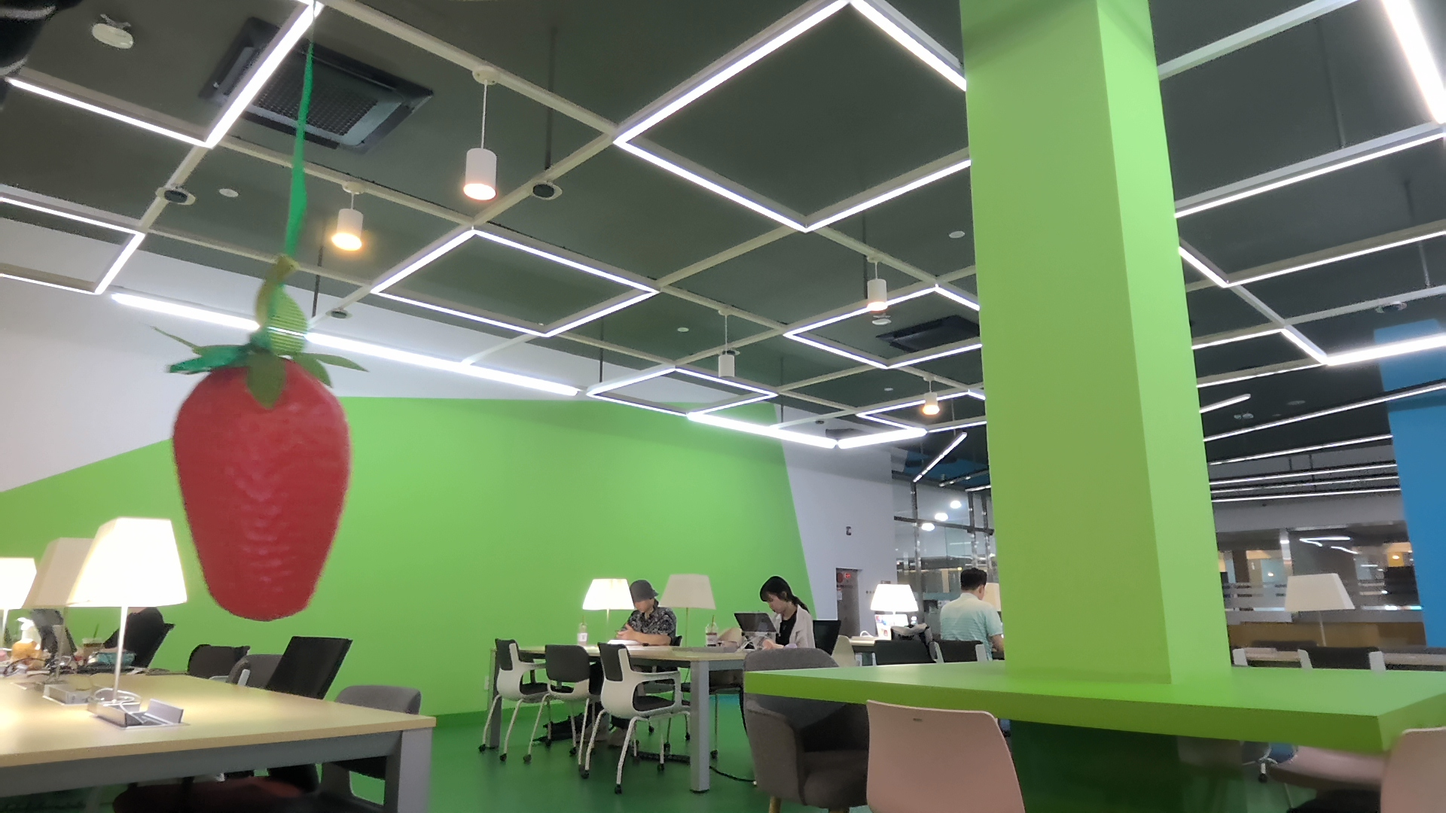strawberry: (155, 343, 376, 626)
